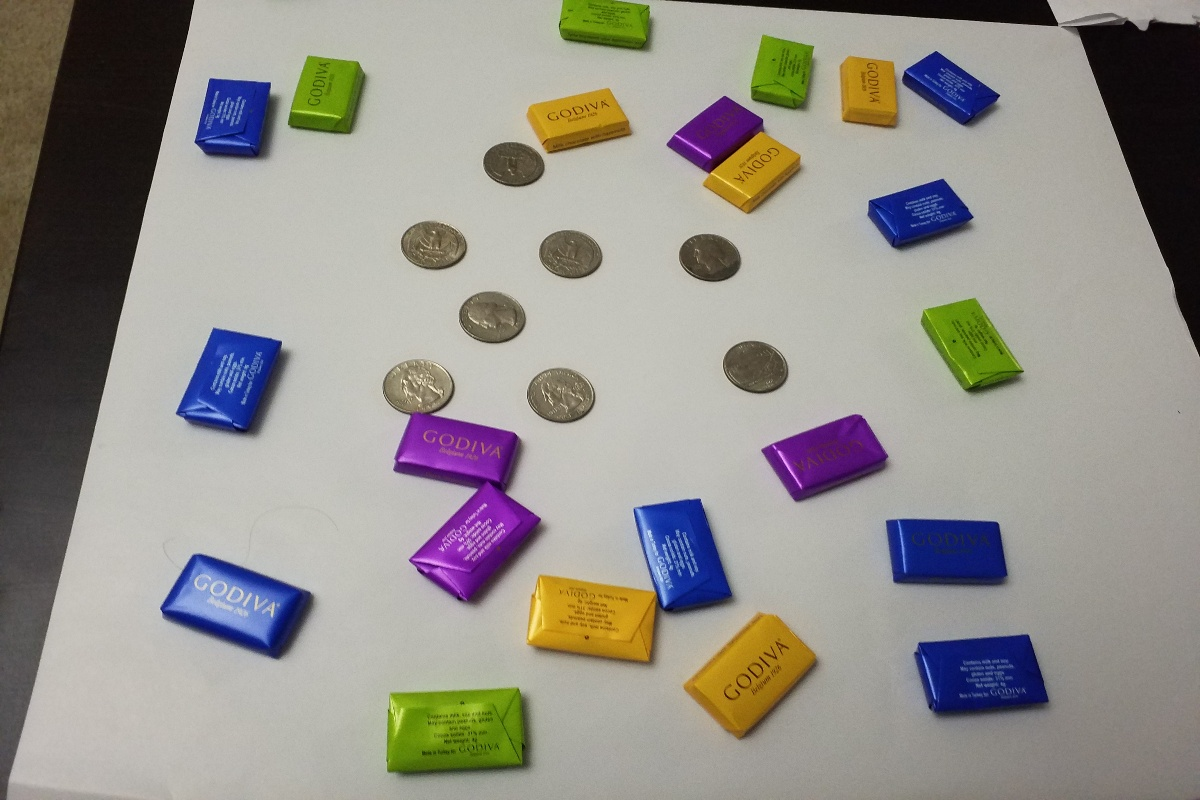chocolate_blue: (149, 540, 330, 664), (899, 625, 1070, 733), (169, 310, 291, 451), (873, 510, 1018, 597), (636, 500, 738, 610), (858, 173, 980, 264), (902, 42, 1009, 140), (191, 69, 273, 167)
chocolate_green: (385, 688, 542, 779), (909, 291, 1029, 405), (286, 50, 365, 146), (747, 29, 826, 118)
chocolate_purple: (402, 488, 548, 605), (757, 413, 903, 509), (381, 417, 526, 493), (681, 97, 752, 161)
chocolate_yellow: (681, 612, 822, 744), (523, 570, 665, 671), (518, 90, 645, 153), (836, 50, 903, 140), (722, 143, 804, 212)
coin_quarter: (710, 326, 799, 405), (515, 360, 603, 432), (529, 217, 611, 290), (370, 350, 458, 418), (452, 284, 532, 355), (392, 210, 474, 279), (478, 130, 545, 200), (673, 224, 745, 287)
